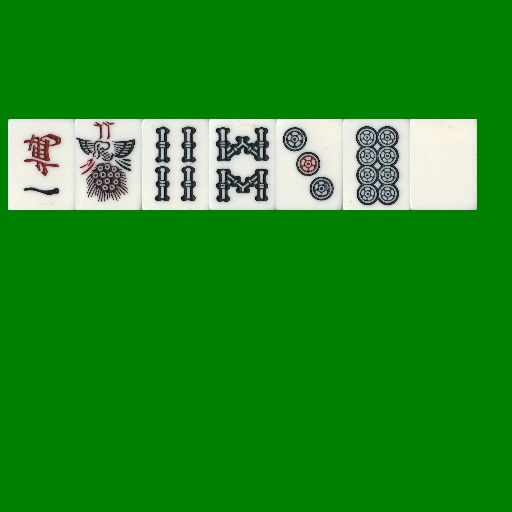1m: (8, 119, 75, 210)
1s: (75, 119, 142, 210)
3p: (276, 119, 343, 210)
4s: (142, 119, 209, 210)
8p: (343, 119, 410, 210)
8s: (209, 119, 276, 210)
white: (410, 119, 477, 210)
